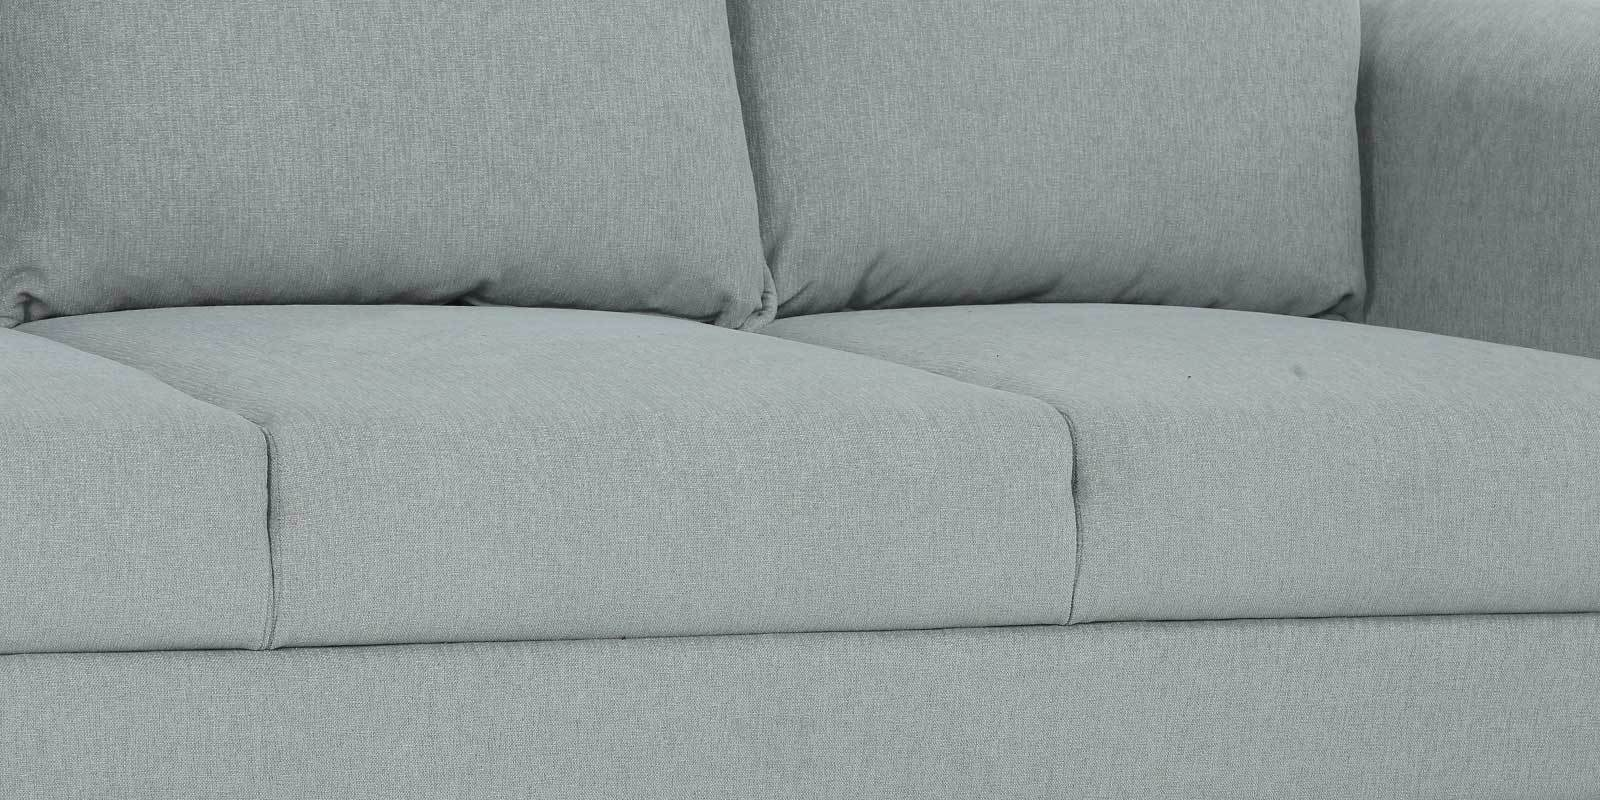Lara Three Seater Sofa in Ash Grey Colour by CasaCraft: (1, 1, 1600, 800)
